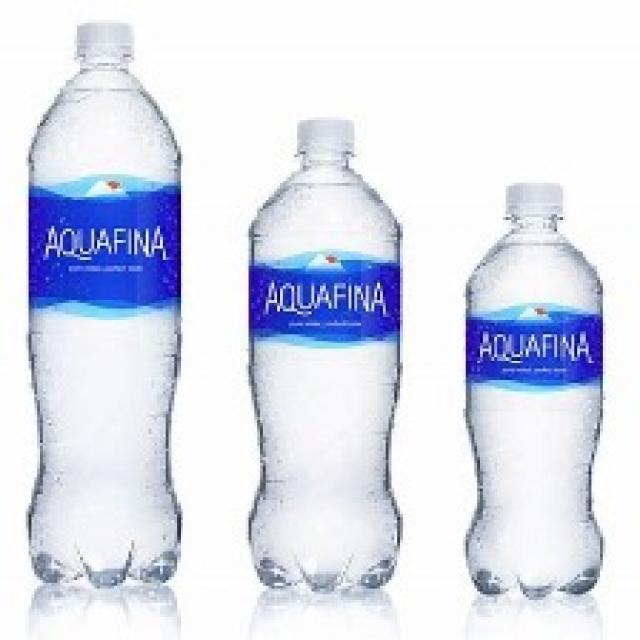plastic_bottle: (29, 14, 184, 584), (234, 105, 410, 582), (456, 157, 617, 598)
